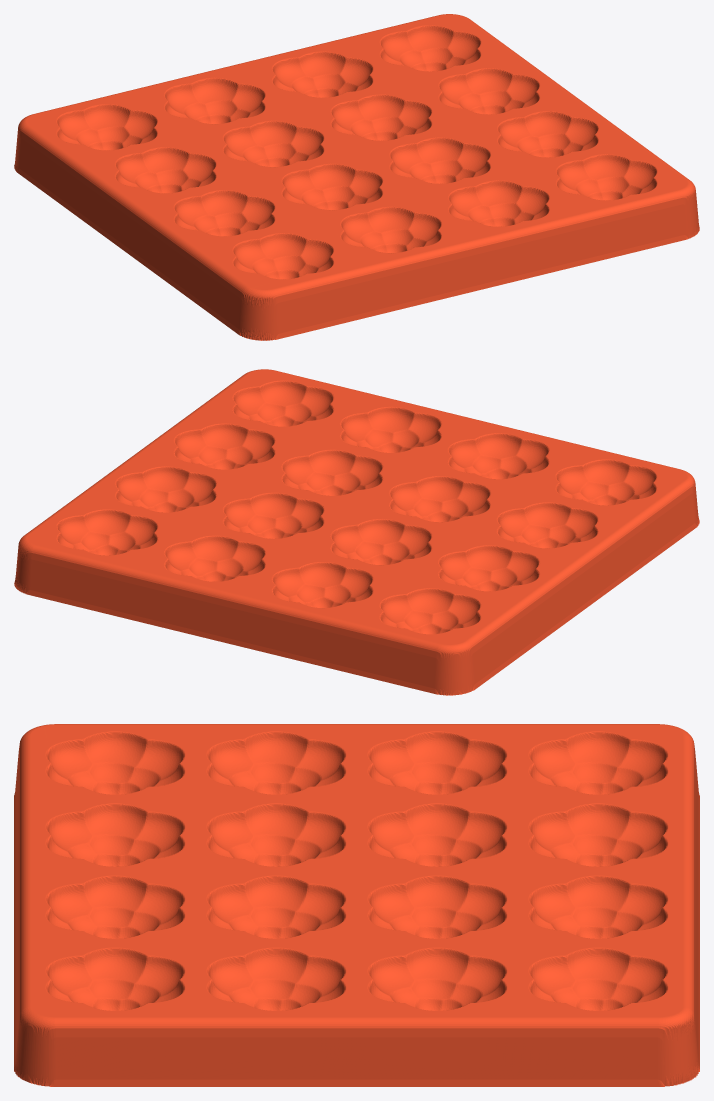
File: mold.glb
The picture shows the model from 3 angles, top to bottom: view 1: azimuth 30°, elevation 25°; view 2: azimuth 150°, elevation 25°; view 3: azimuth 270°, elevation 25°; orthographic projection. The views are drawn at different scales.
Visible parts, largest first — view 1: geometry_0; view 2: geometry_0; view 3: geometry_0.
Part boxes in pixels (bbox=[...]): geometry_0: bbox=[14, 14, 699, 340]; geometry_0: bbox=[14, 369, 699, 695]; geometry_0: bbox=[14, 724, 699, 1086].
Size of the model in its own units: 0.1569 by 0.0149 by 0.1486.
